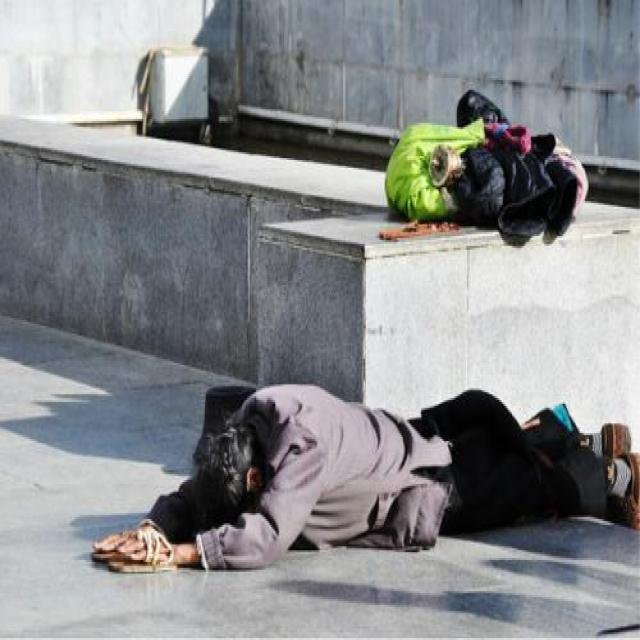down: (87, 372, 637, 580)
